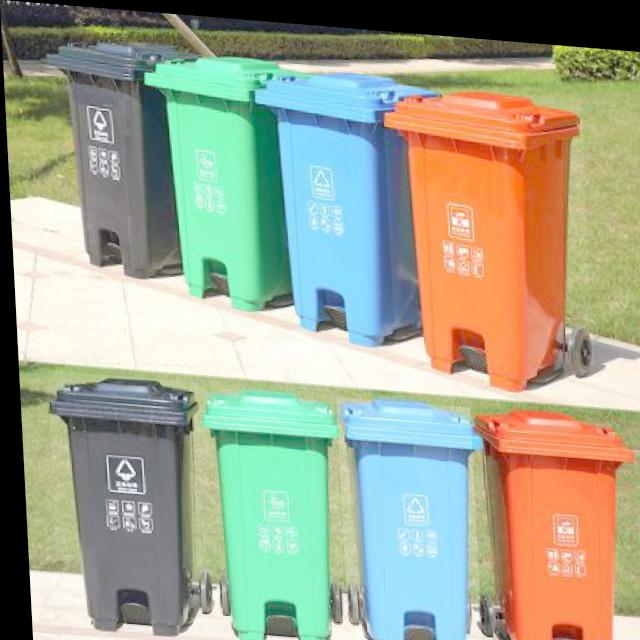garbage_bin: (381, 76, 592, 387), (251, 58, 451, 343), (141, 44, 318, 309), (43, 370, 203, 635), (466, 395, 638, 640), (41, 33, 209, 280), (332, 391, 486, 640), (193, 382, 341, 640)
